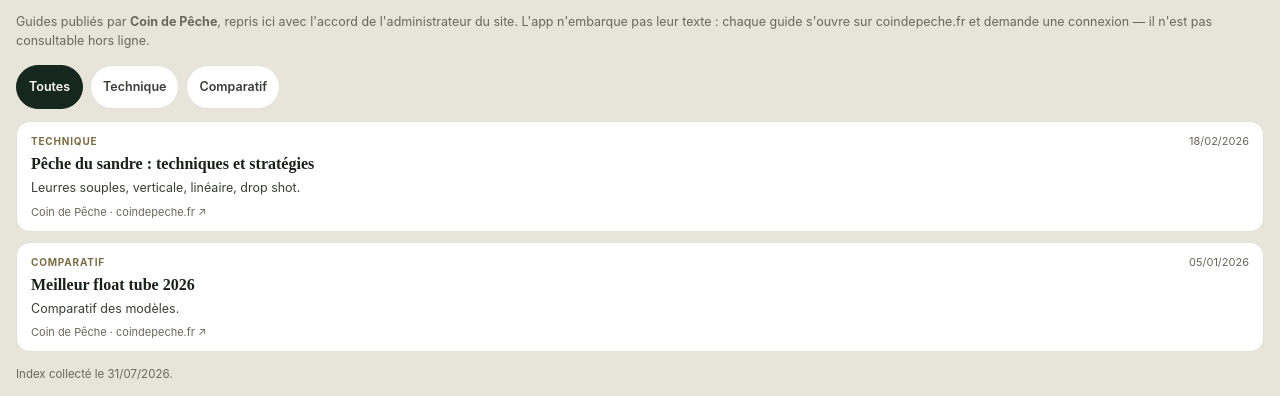
Test: ListeGuides › laisse filtrer par la catégorie que le site affiche
Click the button "Comparatif". click: (233, 87)
box: [186, 65, 280, 109]
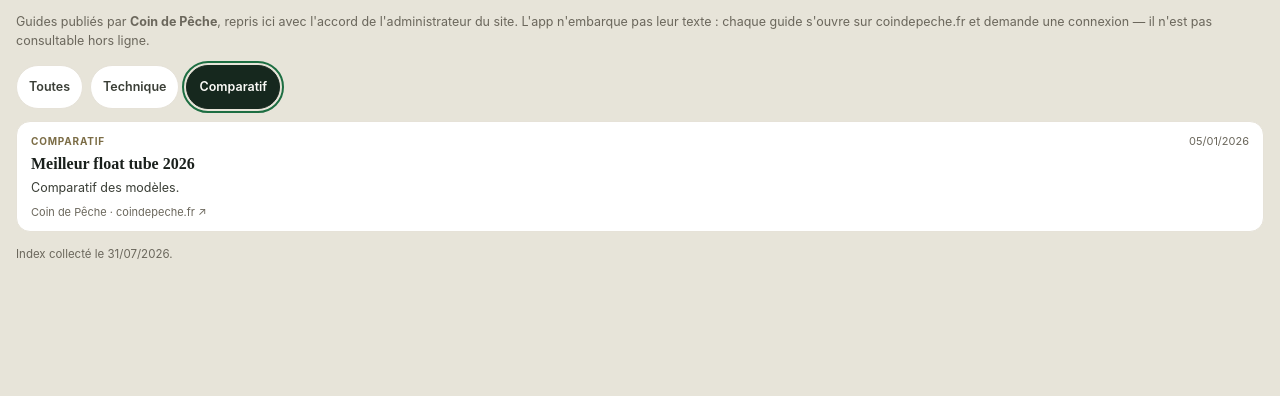
expect the text "Meilleur float tube 2026" is shown: met, box [31, 155, 195, 172]
expect the link "Pêche du sandre : techniques et stratégies" is gone: met
